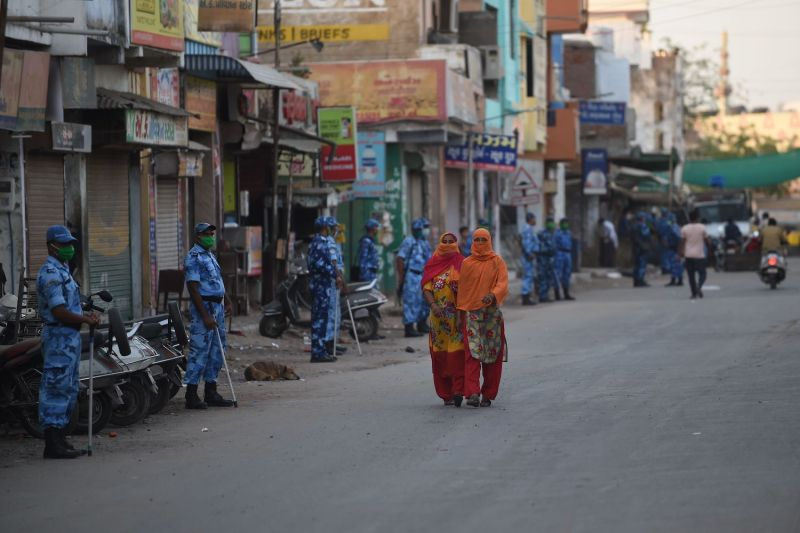mask: (46, 221, 78, 262), (468, 225, 503, 257), (317, 213, 342, 240), (434, 233, 460, 256), (195, 220, 214, 246), (410, 220, 424, 242), (542, 214, 555, 235), (366, 221, 380, 239), (559, 217, 571, 234), (526, 211, 538, 225)
